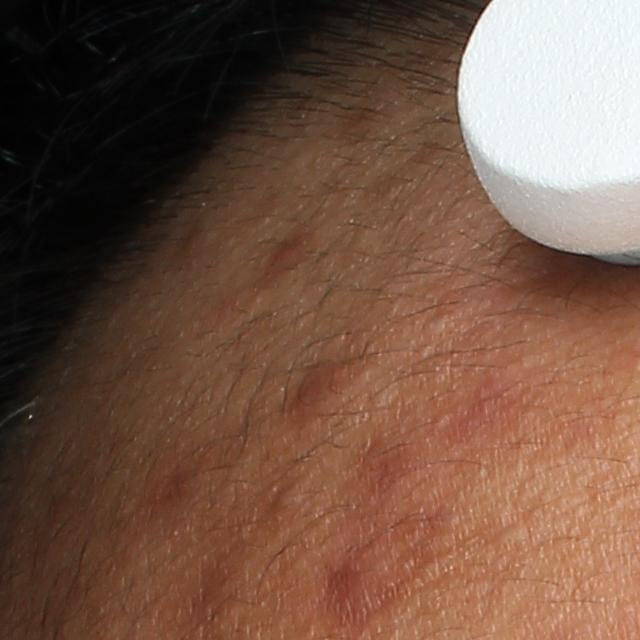atrophic_scar: (322, 515, 451, 625)
comedo: (495, 521, 530, 545), (270, 488, 299, 511), (420, 313, 446, 337)
